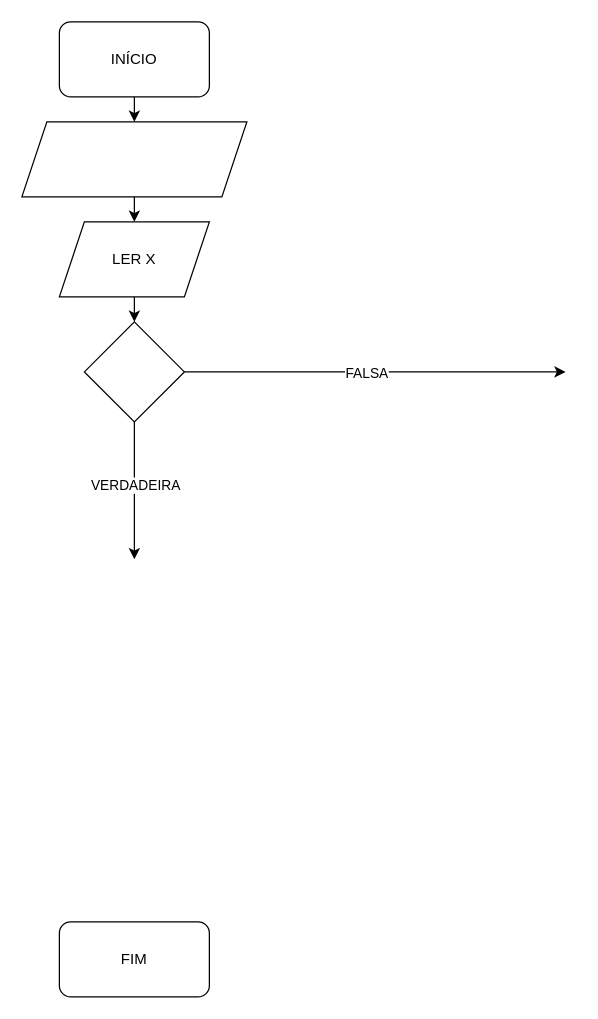
This 598x1019 diagram has some shape labels left out. Here are the shapes that lost their labels. From the top down, the box of each, then its label:
(21, 121, 247, 197): ESCREVER "QUANTOS FILHOS TEM?"
(83, 321, 184, 422): X > 0
